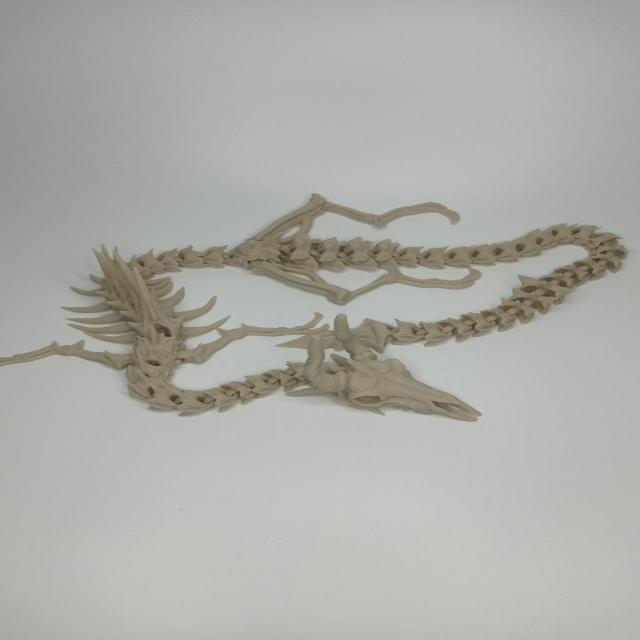Without deffect: (52, 186, 626, 434)
